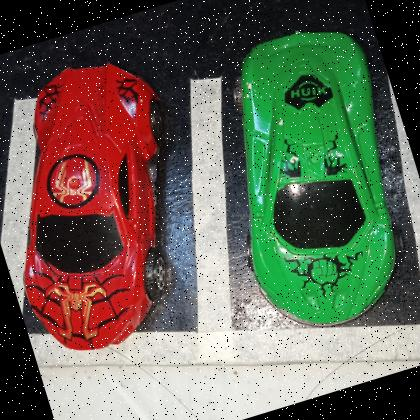Car: (241, 32, 397, 327), (23, 63, 173, 352)
